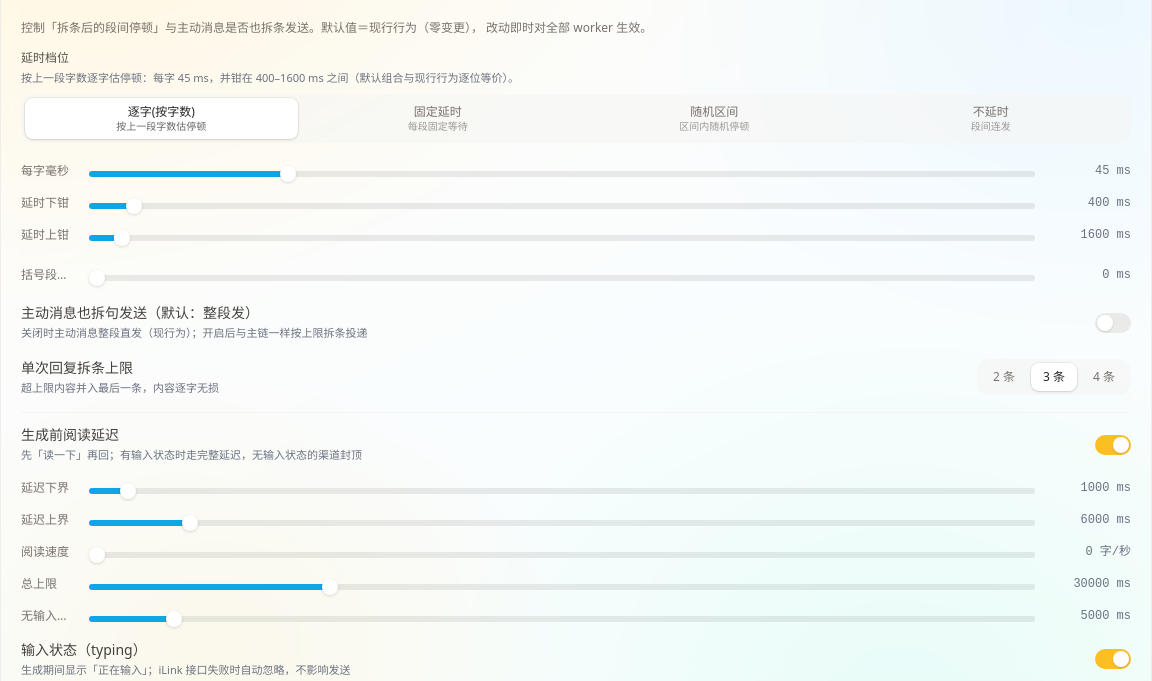
it: 保存（partial merge + 回执纪律） › 改动后显「未保存」，点保存只 POST 增量；回执 ok → 显示已保存且 dirty 归零
The width and height of the screenshot is (1152, 681).
Expected: the button "逐字(按字数) 按上一段字数估停顿" is shown, 25,98 -> 298,139
Set the slider labelled "每字毫秒" to "60": (359, 174) 89,171 -> 1035,177
(page scrolled)
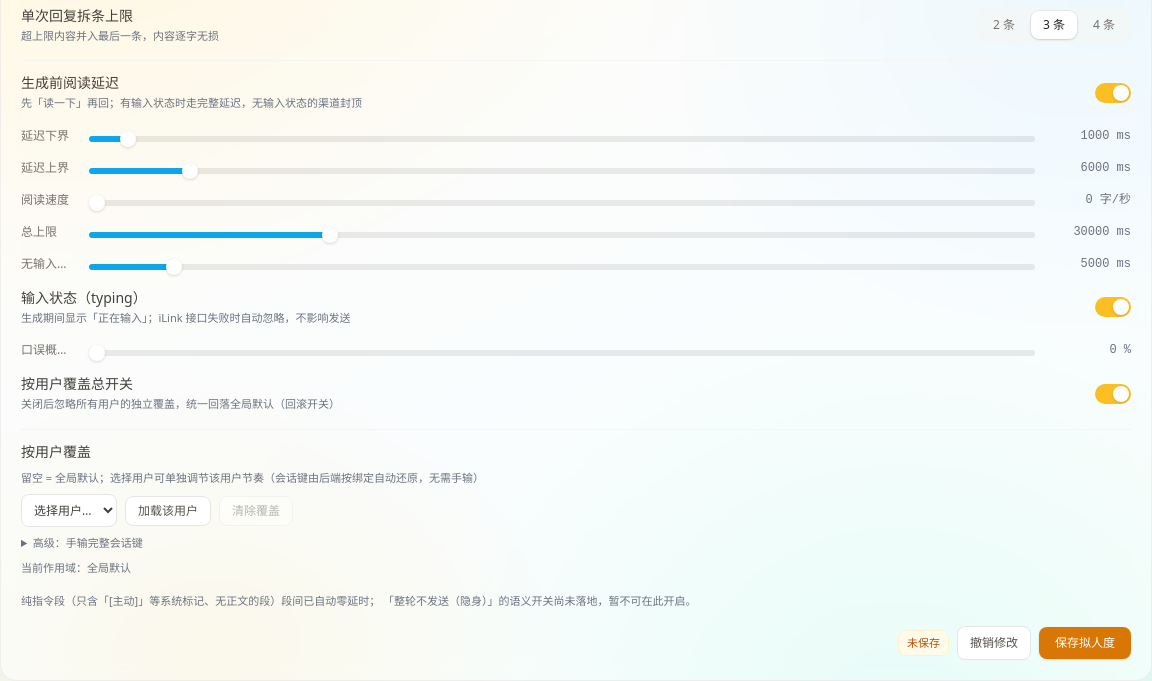
Expected: the text "未保存" is shown, 898,630 -> 949,656
Click the button "保存拟人度": (1085, 643) 1039,627 -> 1131,659
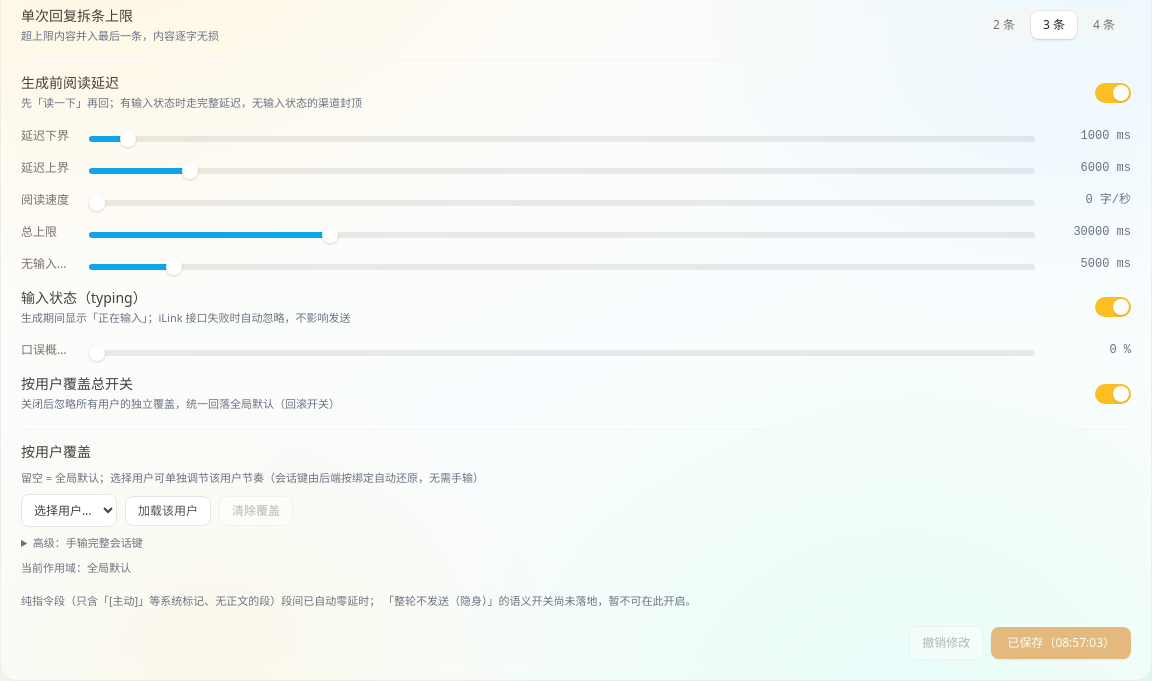
Expected: the text "未保存" is gone
